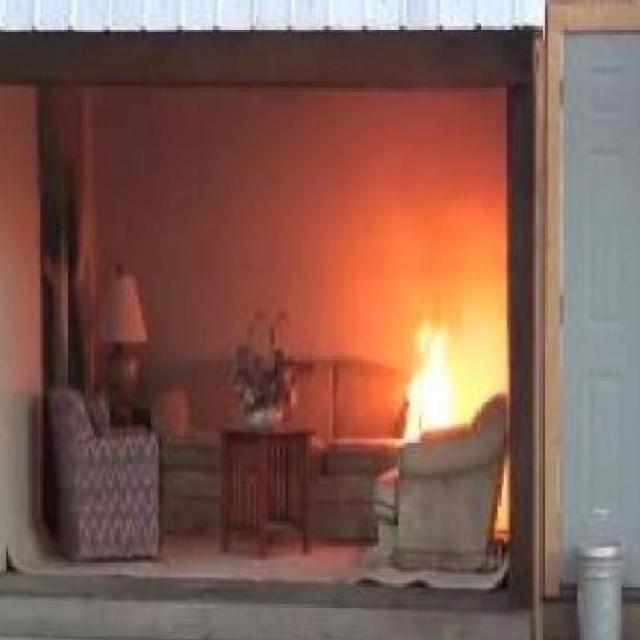smoke: (397, 296, 474, 454)
